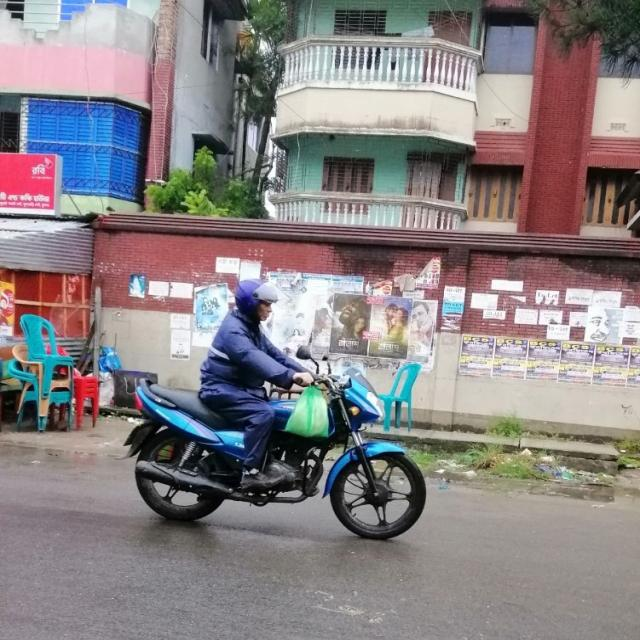Motorbike: (123, 362, 430, 547)
